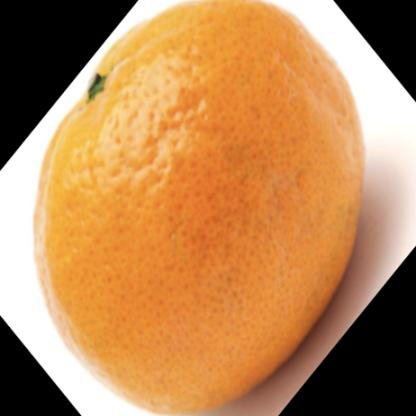fresh: (33, 1, 363, 416)
